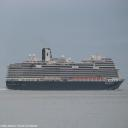cruises: (6, 48, 127, 93)
